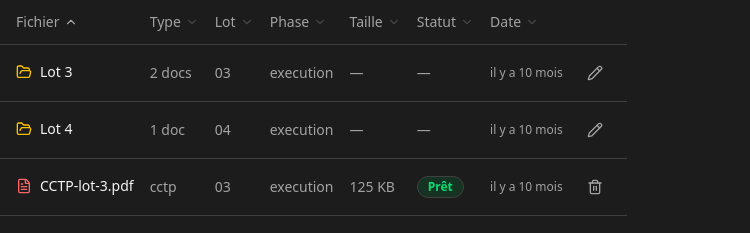
it: DocumentList — actions dossier › cliquer sur Renommer un dossier affiche InlineFolderRename pour ce dossier précisément (pas les autres)
What coordinates should you click on to do the following:
click the button named "Renommer le dossier" in the row of "Lot 3"
I would click on:
 (595, 73)
Its box is [579, 57, 611, 89].
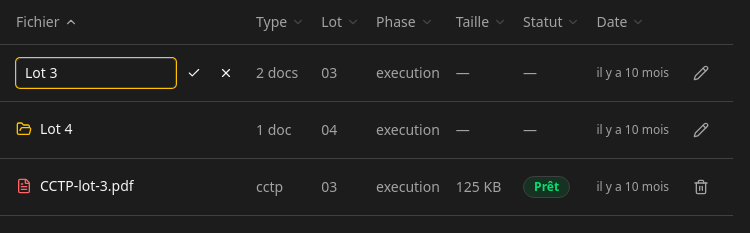
Now the field holds "Lot 3", box [16, 58, 176, 88]
